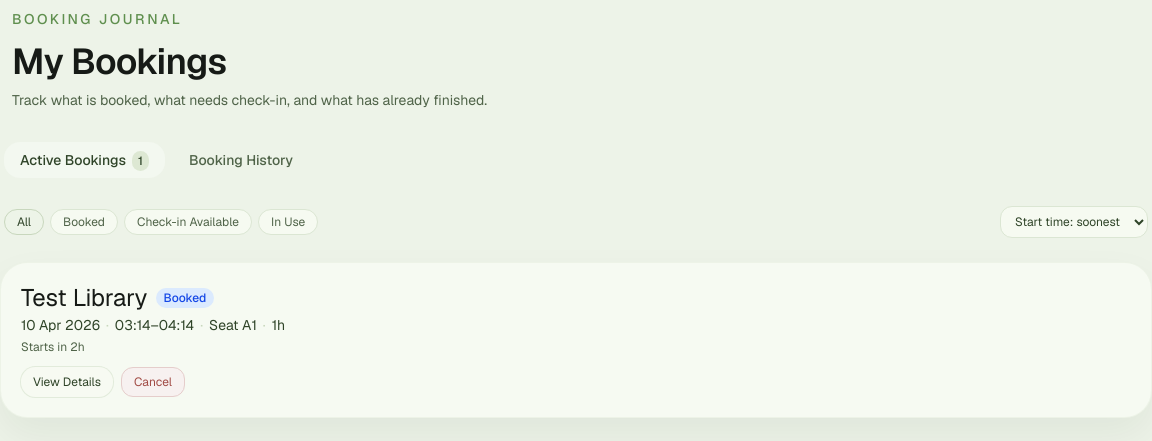
Scenario: BookingsPage › shows history empty state when switching to Booking History tab with no history
Expected: the button "Active Bookings1" is shown, [4,142,165,178]
Click the button "Booking History" at (241, 160), box [173,142,309,178]
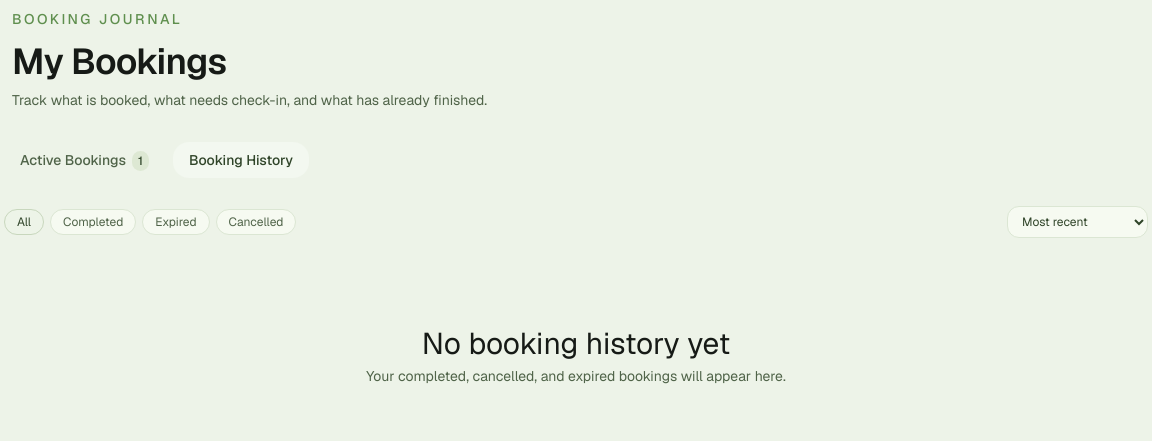
Result: the text "No booking history yet" is shown at [422,324,730,363]
